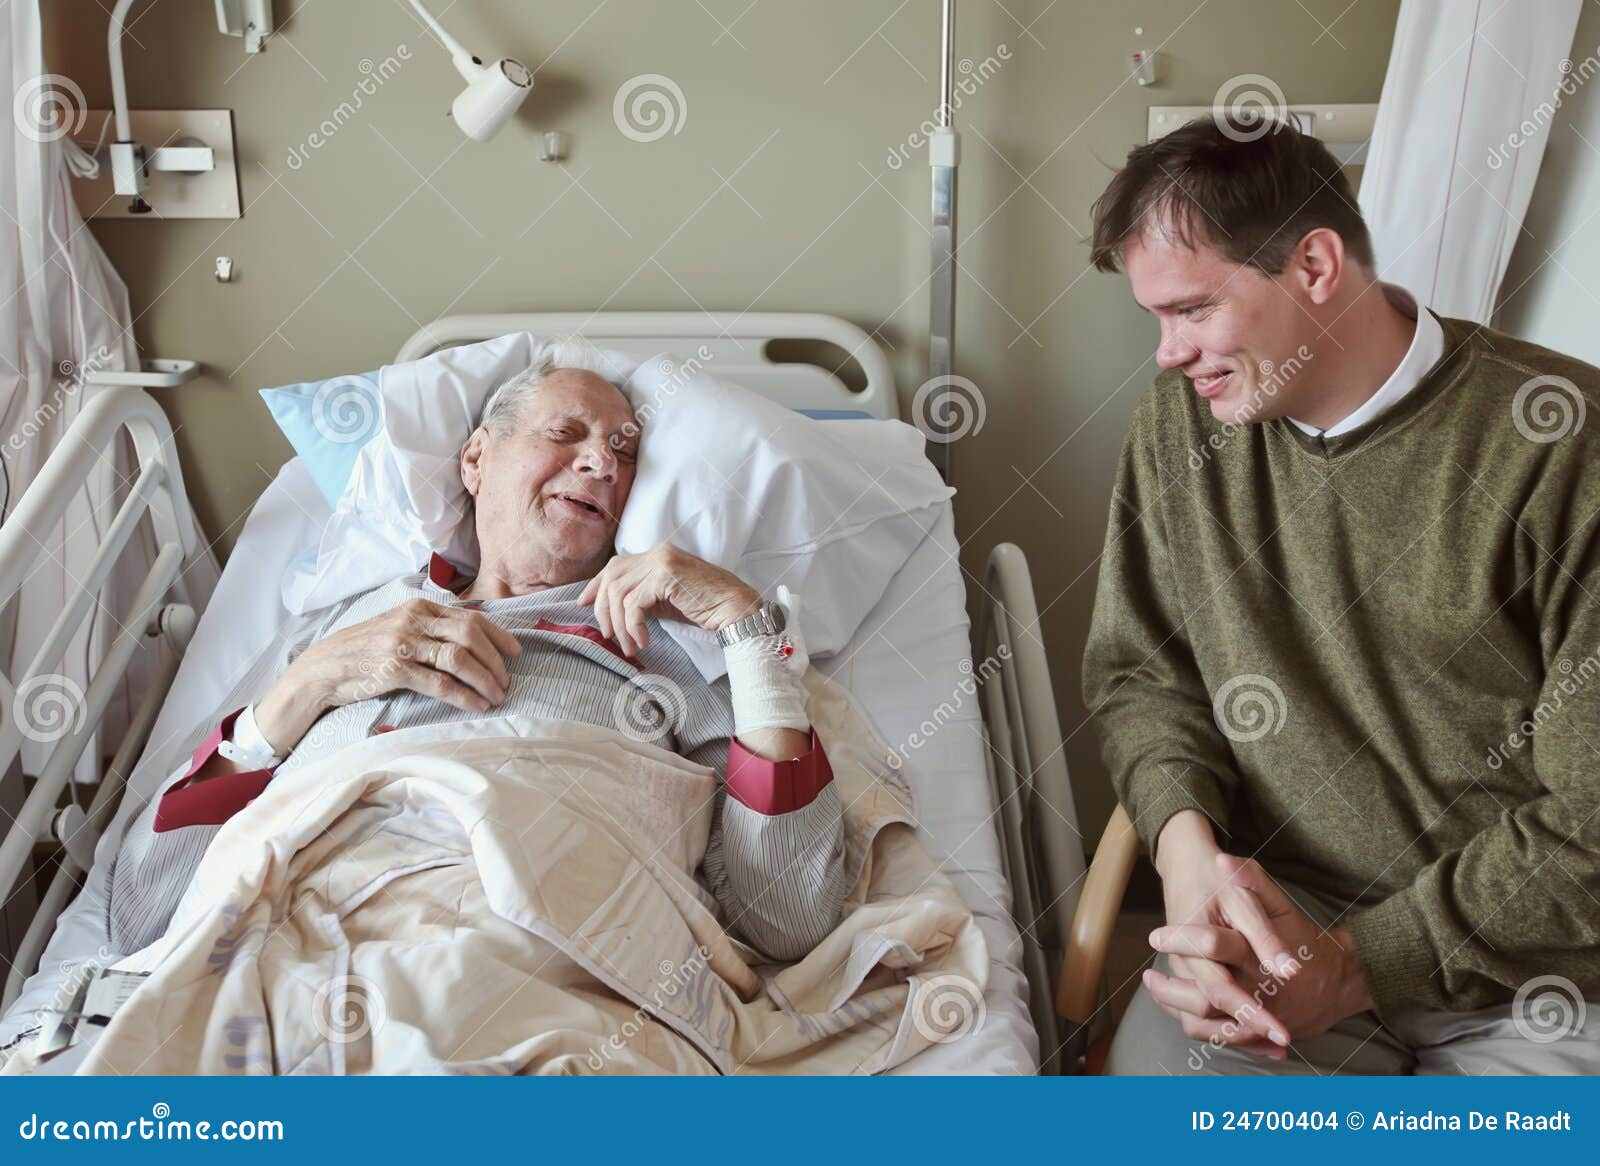visitor: (933, 69, 1591, 1027)
